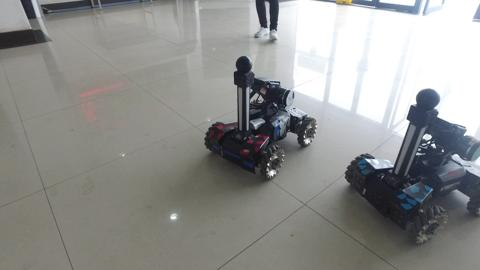chariot: (341, 84, 479, 248), (197, 53, 319, 185)
